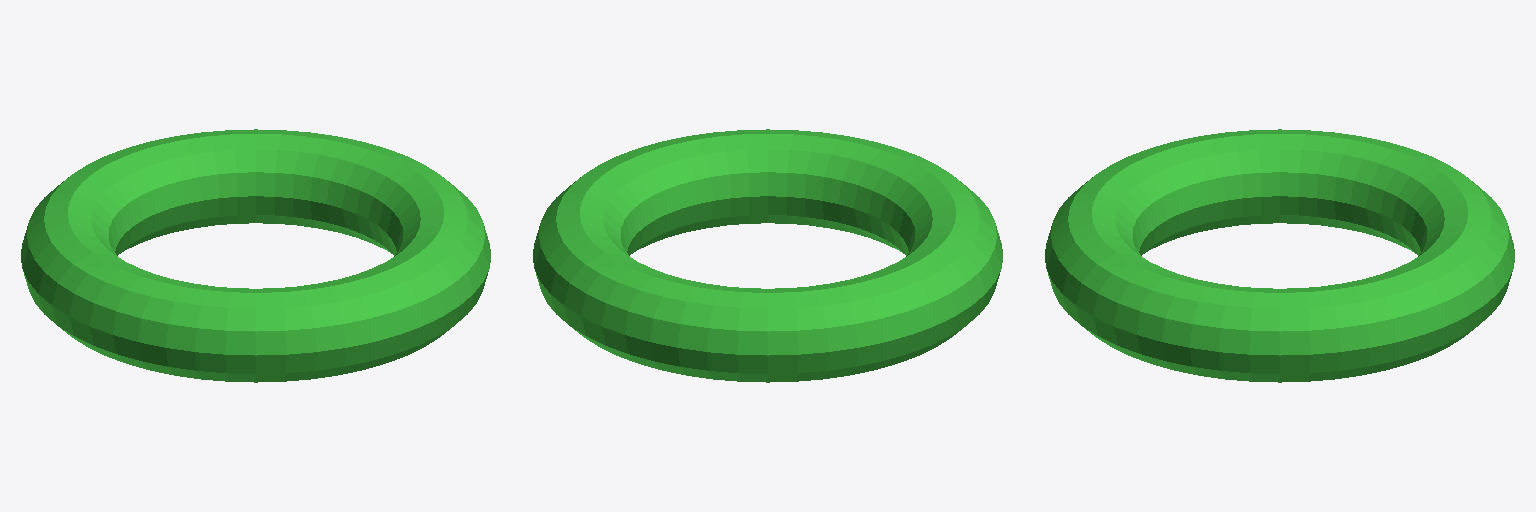
Rendered from torus_pointer.obj.
The picture shows the model from 3 angles: view 1: azimuth 30°, elevation 25°; view 2: azimuth 150°, elevation 25°; view 3: azimuth 270°, elevation 25°; orthographic projection.
Parts seen in each view (by area): view 1: Torus; view 2: Torus; view 3: Torus.
Boxes of the visible parts, x1,y1,x2,y2 form: Torus: [21, 129, 490, 382]; Torus: [533, 129, 1002, 382]; Torus: [1045, 129, 1514, 382].
Size of the model in its own units: 2.5 by 0.5 by 2.5.